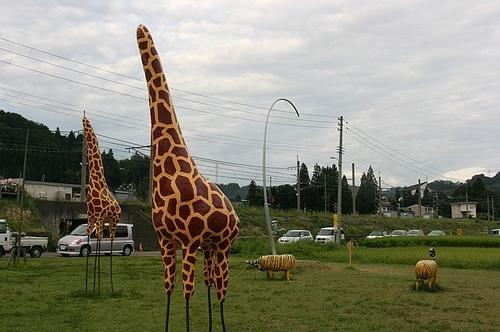car: (56, 223, 134, 257), (277, 229, 314, 244), (314, 227, 346, 244), (366, 231, 390, 240), (388, 230, 409, 236), (408, 229, 426, 236), (428, 230, 446, 236)
truck: (1, 220, 48, 258)
